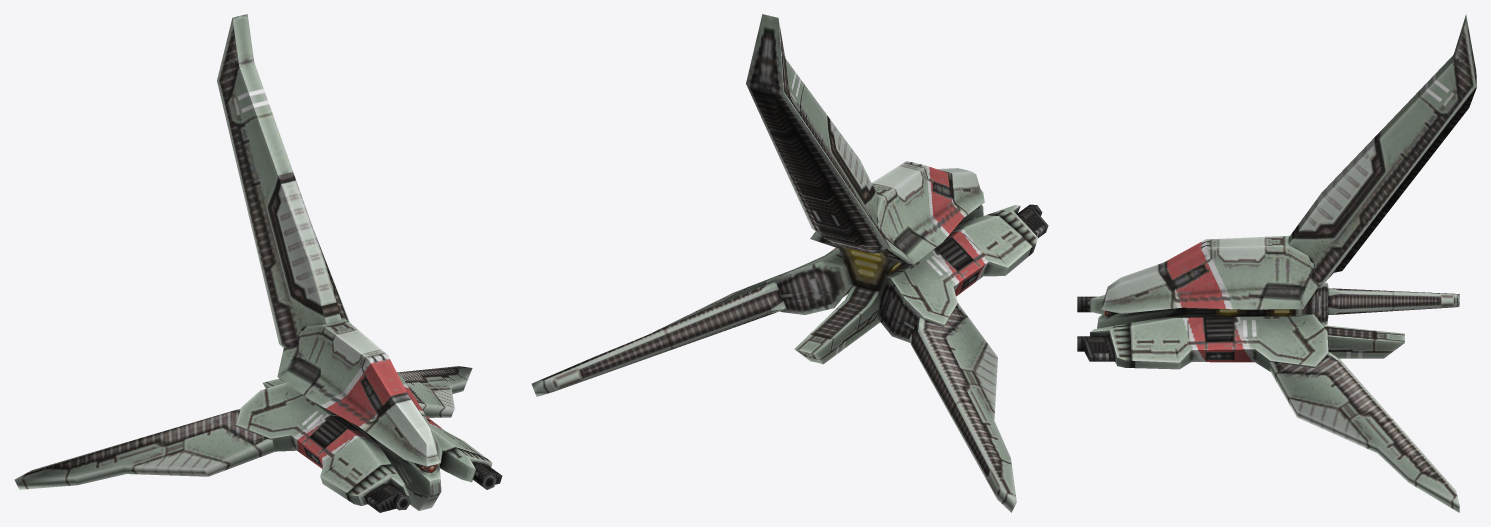
The model's file is kpr_drone_01.glb.
3 renders of one model, left to right at view 1: azimuth 30°, elevation 25°; view 2: azimuth 150°, elevation 25°; view 3: azimuth 270°, elevation 25°, orthographic. The views are drawn at different scales.
Parts seen in each view (by area): view 1: kpr_drone_01_LOD0, kpr_drone_01_wing_top_LOD0, kpr_drone_01_wing_right_LOD0, kpr_drone_01_wing_left_LOD0; view 2: kpr_drone_01_LOD0, kpr_drone_01_wing_top_LOD0, kpr_drone_01_wing_right_LOD0, kpr_drone_01_wing_left_LOD0; view 3: kpr_drone_01_LOD0, kpr_drone_01_wing_top_LOD0, kpr_drone_01_wing_left_LOD0, kpr_drone_01_wing_right_LOD0.
Boxes of the visible parts, x1,y1,x2,y2 form: kpr_drone_01_LOD0: (236, 318, 502, 512); kpr_drone_01_wing_top_LOD0: (217, 14, 349, 347); kpr_drone_01_wing_right_LOD0: (14, 408, 274, 489); kpr_drone_01_wing_left_LOD0: (397, 366, 472, 417); kpr_drone_01_LOD0: (766, 161, 1048, 364); kpr_drone_01_wing_top_LOD0: (746, 14, 888, 253); kpr_drone_01_wing_right_LOD0: (909, 303, 1016, 512); kpr_drone_01_wing_left_LOD0: (531, 270, 790, 396); kpr_drone_01_LOD0: (1077, 235, 1404, 371); kpr_drone_01_wing_top_LOD0: (1288, 14, 1476, 286); kpr_drone_01_wing_left_LOD0: (1269, 351, 1459, 512); kpr_drone_01_wing_right_LOD0: (1328, 288, 1459, 314).
Size of what is drawn, in the model's own units: 0.6301 by 0.548 by 0.5056.
1 material, 1 textured.
